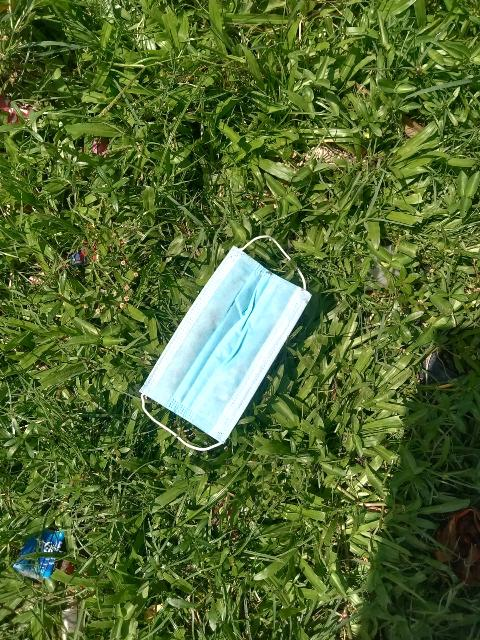mask: (115, 214, 346, 467)
